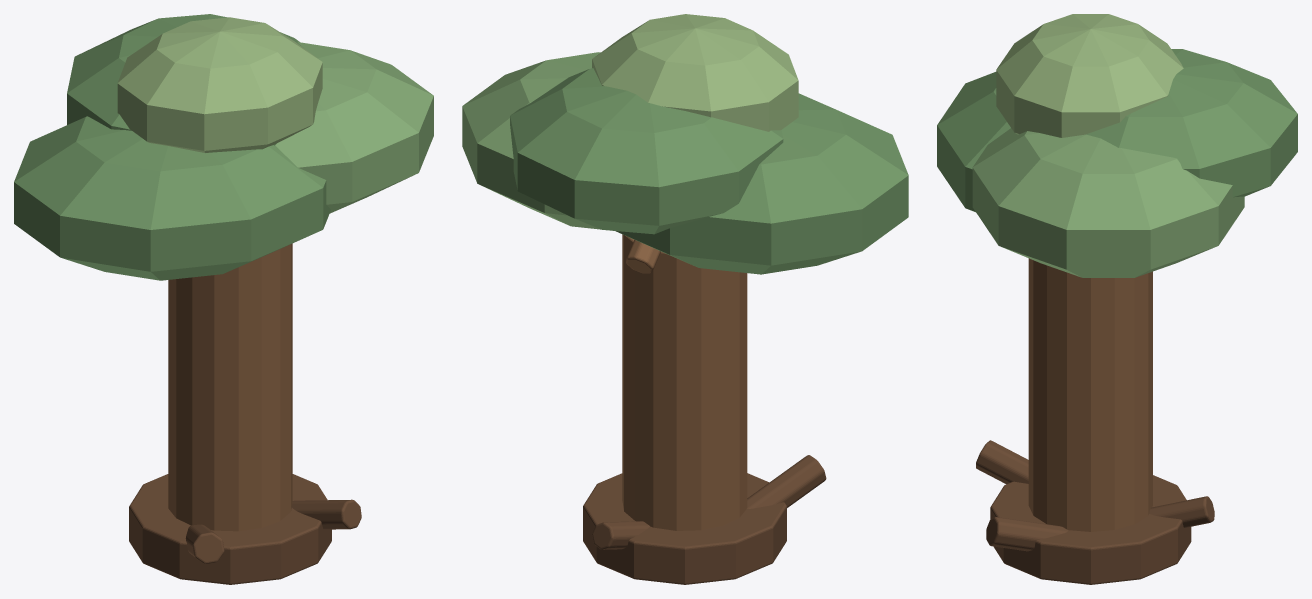
Rendered from woodland-great-tree-01.glb.
3 renders of one model, left to right at view 1: azimuth 30°, elevation 25°; view 2: azimuth 150°, elevation 25°; view 3: azimuth 270°, elevation 25°, orthographic.
Visible parts, largest first — view 1: woodland-great-tree-01; view 2: woodland-great-tree-01; view 3: woodland-great-tree-01.
Part boxes in pixels (box(x1,y1,x2,y2)): woodland-great-tree-01: box(14, 14, 433, 584); woodland-great-tree-01: box(462, 14, 908, 584); woodland-great-tree-01: box(937, 14, 1297, 584).
Size of the model in its own units: 0.75 by 0.9619 by 0.61.
